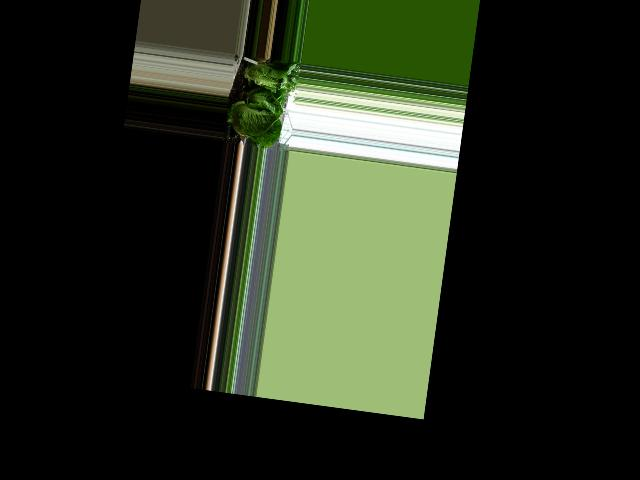lettuce: (235, 58, 295, 95)
